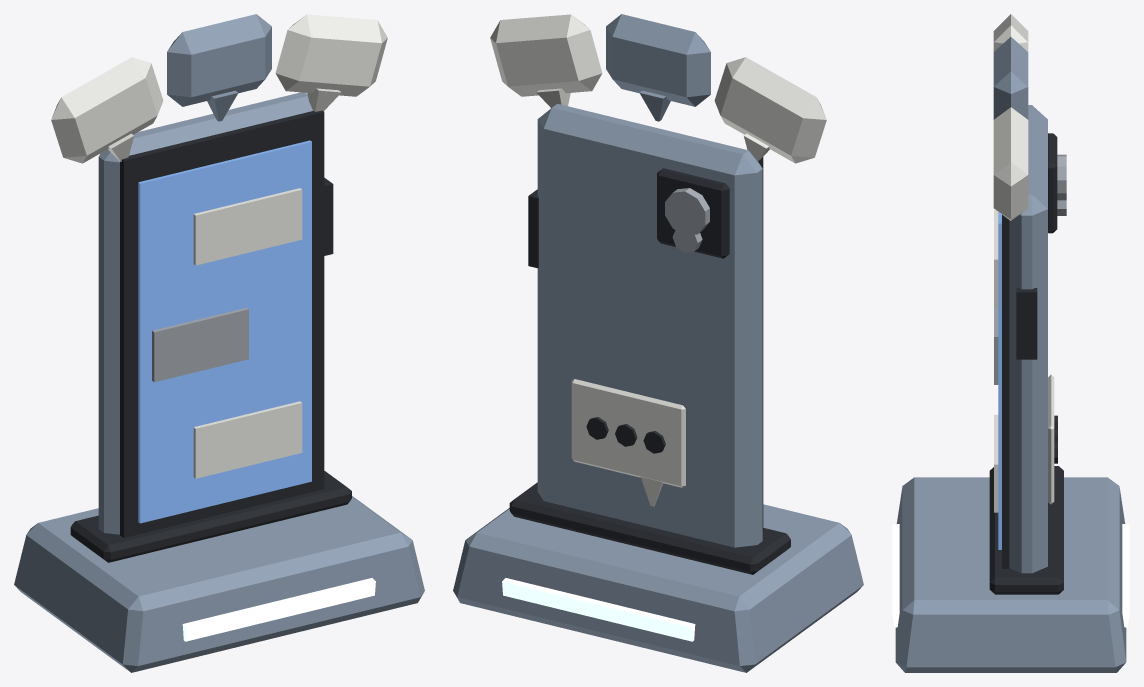
Rendered from quickreply_core.glb.
3 views of the same model, side by side, from view 1: azimuth 30°, elevation 25°; view 2: azimuth 150°, elevation 25°; view 3: azimuth 270°, elevation 25° (orthographic). The views are drawn at different scales.
Visible parts, largest first — view 1: quickreply_core_mesh; view 2: quickreply_core_mesh; view 3: quickreply_core_mesh.
Part boxes in pixels (<box>): quickreply_core_mesh: <box>14,14,424,672</box>; quickreply_core_mesh: <box>453,14,863,672</box>; quickreply_core_mesh: <box>892,14,1129,672</box>.
Size of the model in its own units: 0.7053 by 1.15 by 0.4477.
